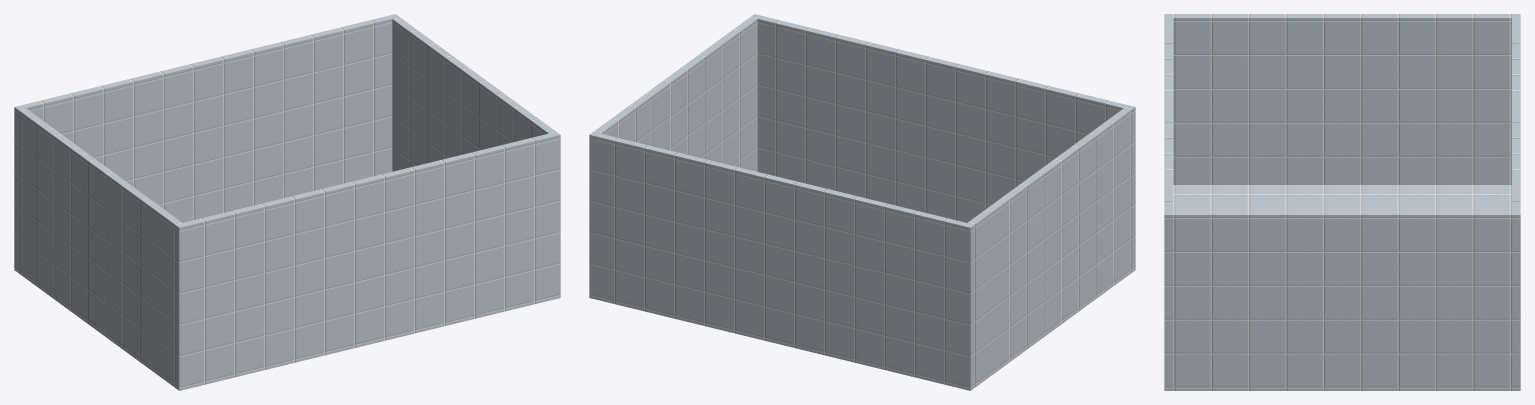
File: piscina.obj
3 views of the same model, side by side, from view 1: azimuth 30°, elevation 25°; view 2: azimuth 150°, elevation 25°; view 3: azimuth 270°, elevation 25° (orthographic). The views are drawn at different scales.
Visible parts, largest first — view 1: Box002; view 2: Box002; view 3: Box002.
Boxes of the visible parts, left/top/right/bottom form: Box002: left=14, top=14, right=560, bottom=390; Box002: left=589, top=14, right=1135, bottom=390; Box002: left=1164, top=14, right=1520, bottom=390.
Bounding box in the file's own units: 14.4 × 5.89 × 10.8.
